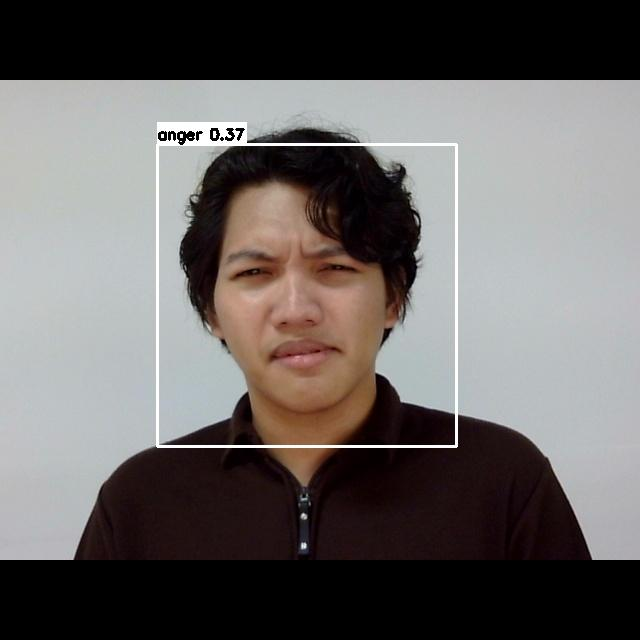Disgust: (204, 218, 403, 389)
